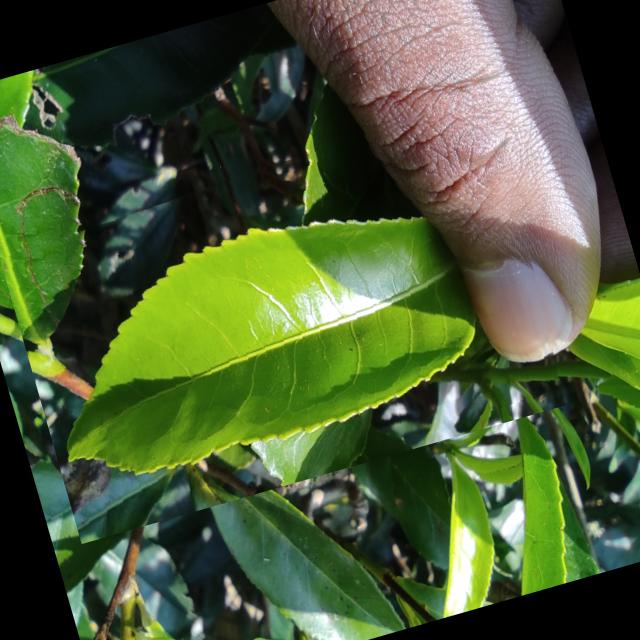Category C(4-7 days): (0, 90, 578, 543)
